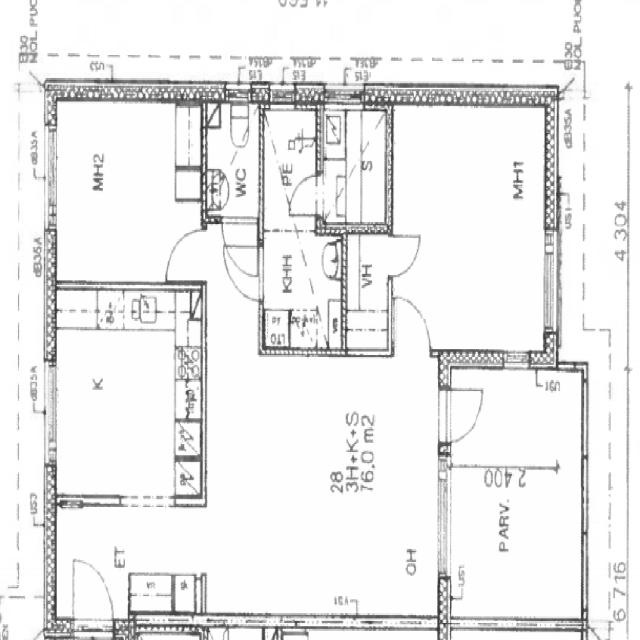door: (63, 553, 116, 640), (220, 213, 265, 302), (437, 382, 488, 445), (161, 225, 210, 289), (390, 292, 432, 355), (382, 228, 424, 282), (285, 170, 325, 224)
window: (430, 457, 455, 584), (539, 225, 564, 343), (37, 118, 62, 234), (38, 356, 62, 476), (55, 486, 124, 515), (116, 487, 180, 518), (578, 524, 593, 615), (323, 83, 364, 112), (266, 78, 297, 115), (274, 615, 316, 640)
zone: (390, 100, 555, 366), (445, 366, 589, 628), (50, 283, 205, 504), (46, 94, 200, 287), (261, 226, 347, 354), (320, 103, 391, 232), (203, 97, 263, 226), (262, 102, 318, 226), (344, 229, 391, 358)
